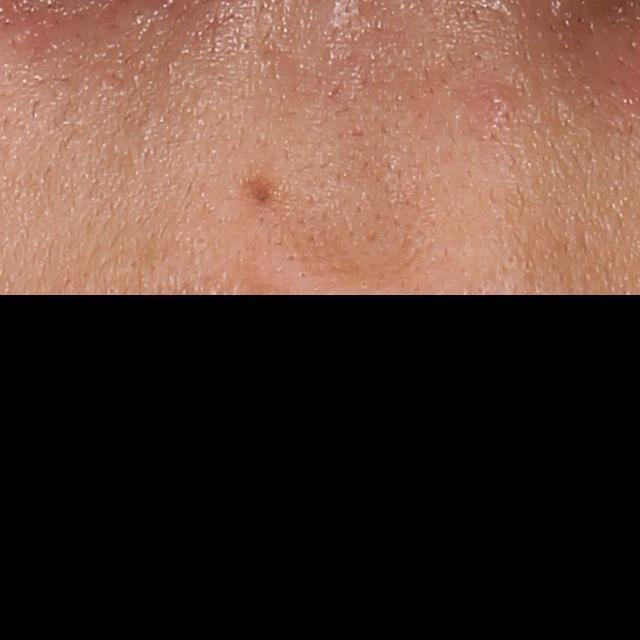nevus: (241, 171, 279, 207)
